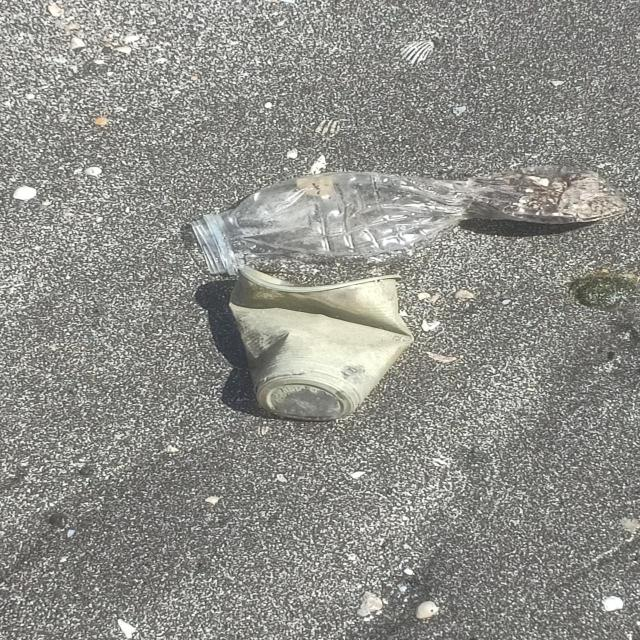plastic_waste: (188, 165, 633, 277), (228, 267, 418, 424)
